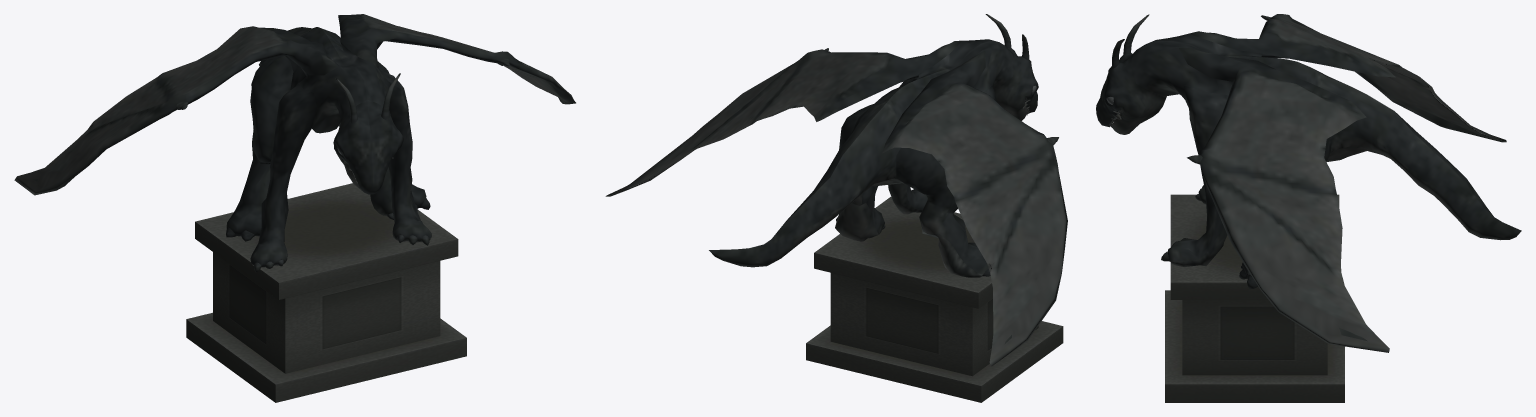
The model's file is zou_2.fbx.
3 views of the same model, side by side, from view 1: azimuth 30°, elevation 25°; view 2: azimuth 150°, elevation 25°; view 3: azimuth 270°, elevation 25° (orthographic). The views are drawn at different scales.
Visible parts, largest first — view 1: zou_2; view 2: zou_2; view 3: zou_2.
Part boxes in pixels (x1,y1,x2,y2): zou_2: (14,14,575,402); zou_2: (605,14,1067,402); zou_2: (1096,14,1521,402).
Bounding box in the file's own units: 22.96 × 14.15 × 17.01.
1 material, 1 textured.
